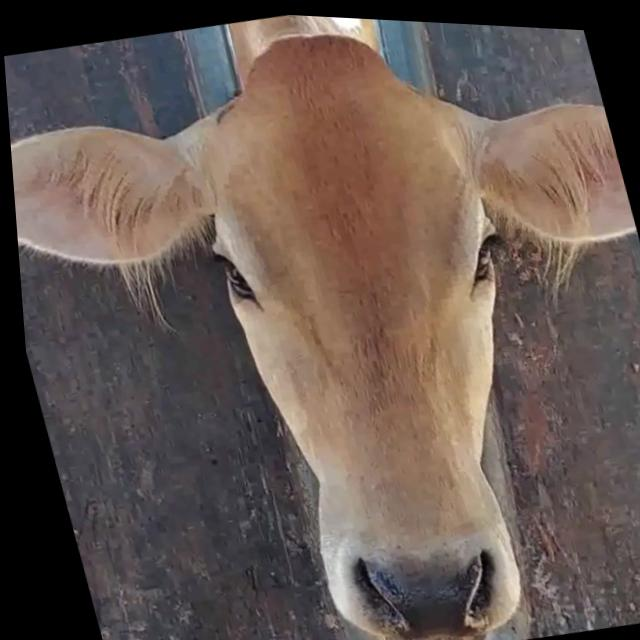cowFace: (161, 7, 599, 640)
